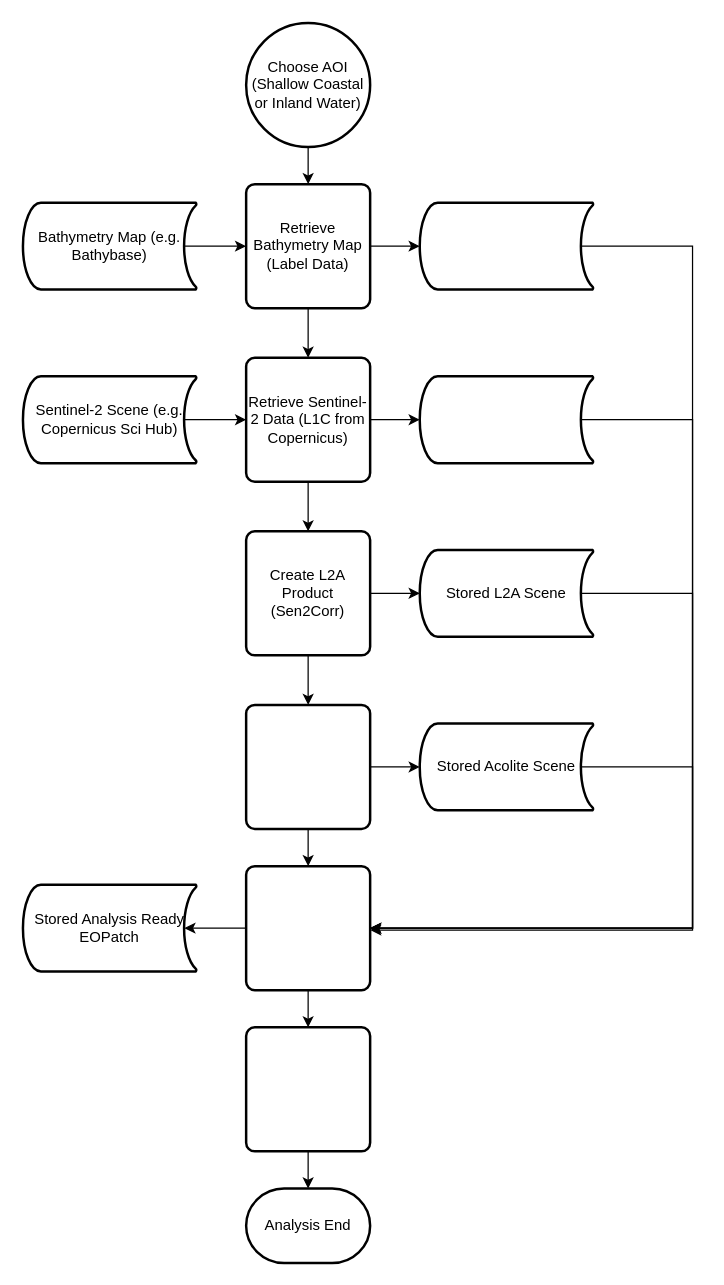
Some shapes in this 724 by 1285 pixel diagram are drawn without their labels. Each missing label, with the centre of its shape:
"Create Acolite Product (BOA Reflectance or Water Reflectance)" goes at (x=307, y=766).
"Fit, Evaluate Model" goes at (x=307, y=1088).
"Reproject, Subset, Resample and Merge" goes at (x=307, y=927).
"Stored Bathymetry Map" goes at (x=506, y=245).
"Stored L1C Scene" goes at (x=506, y=419).
